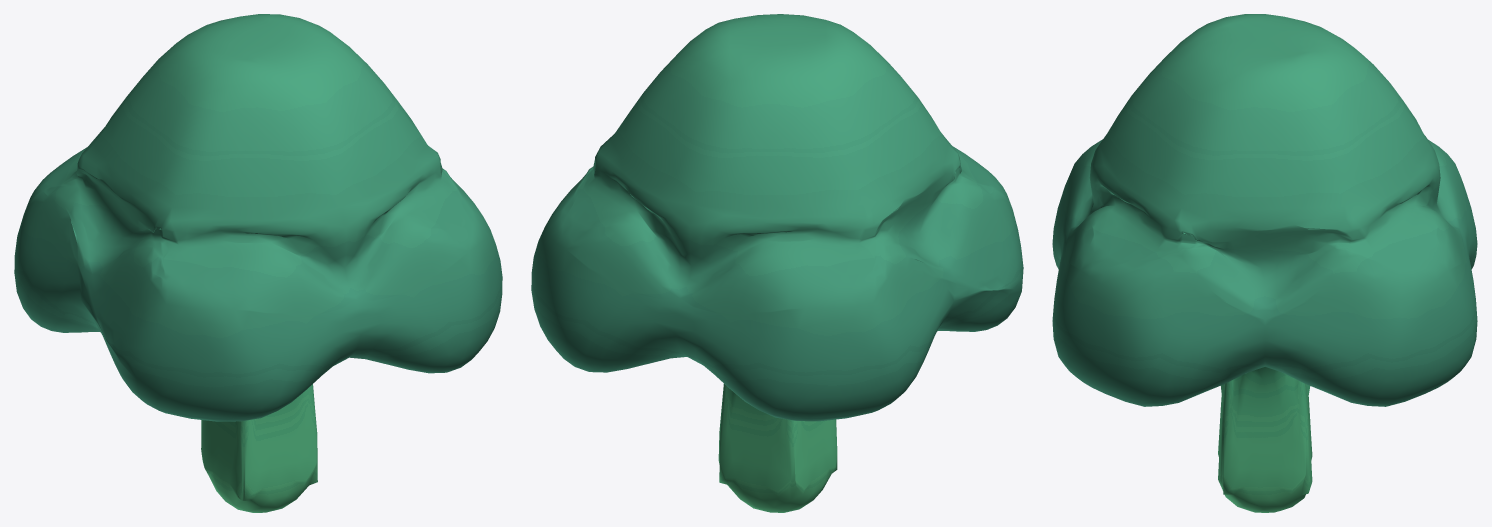
3 renders of one model, left to right at view 1: azimuth 30°, elevation 25°; view 2: azimuth 150°, elevation 25°; view 3: azimuth 270°, elevation 25°, orthographic.
Size of the model in its own units: 0.8324 by 1 by 0.8252.
1 material, 1 textured.
